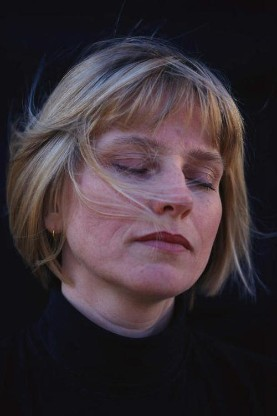闭眼: (183, 159, 221, 200), (110, 151, 155, 185)
